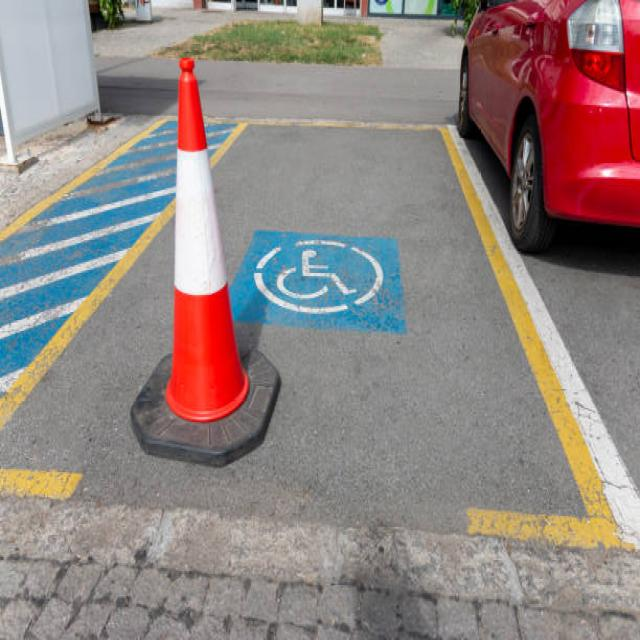Traffic Cone: (129, 26, 279, 479)
